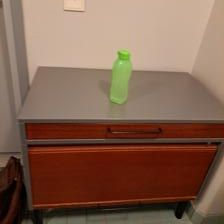bottle: (106, 47, 136, 106)
